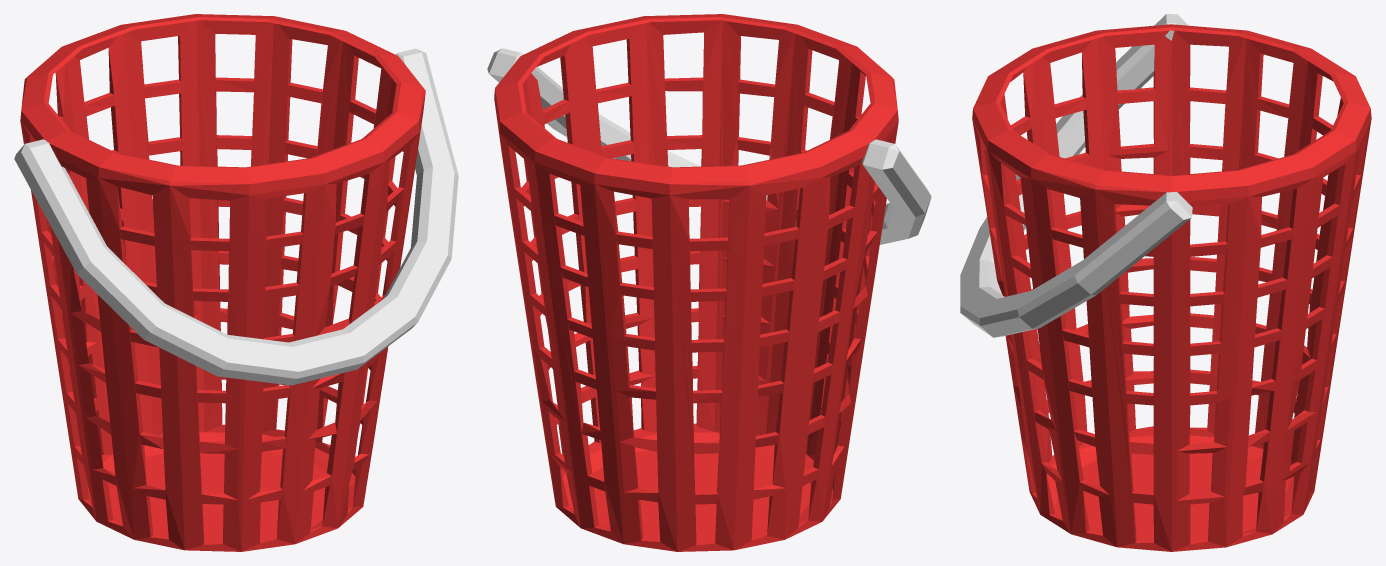
File: trash_can.fbx
3 views of the same model, side by side, from view 1: azimuth 30°, elevation 25°; view 2: azimuth 150°, elevation 25°; view 3: azimuth 270°, elevation 25° (orthographic). The views are drawn at different scales.
Parts seen in each view (by area): view 1: Thung rac; view 2: Thung rac; view 3: Thung rac.
Part boxes in pixels (box(x1,y1,x2,y2)): Thung rac: box(14, 14, 458, 551); Thung rac: box(487, 14, 931, 551); Thung rac: box(960, 14, 1371, 551).
Size of the model in its own units: 69.63 by 66.45 by 62.51.
Materials: 1 (1 with a texture image).
